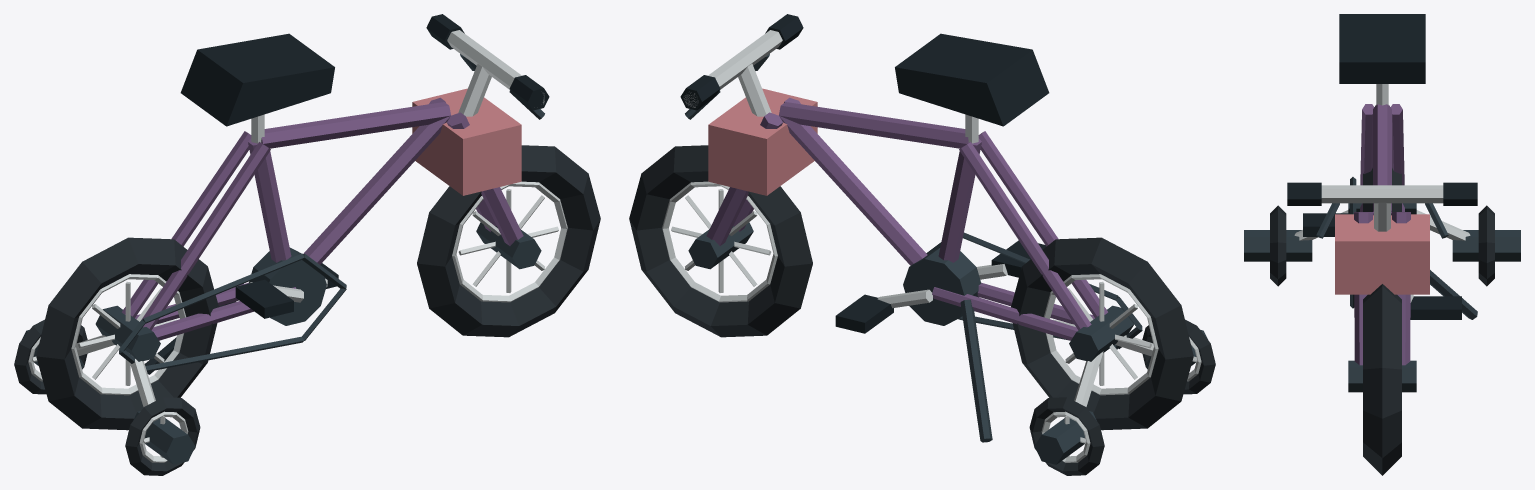
Rendered from b03_child_training_wheel_bicycle.glb.
3 renders of one model, left to right at view 1: azimuth 30°, elevation 25°; view 2: azimuth 150°, elevation 25°; view 3: azimuth 270°, elevation 25°, orthographic. The views are drawn at different scales.
Visible parts, largest first — view 1: b03_child_training_wheel_bicycle; view 2: b03_child_training_wheel_bicycle; view 3: b03_child_training_wheel_bicycle.
Part boxes in pixels (x1,y1,x2,y2): b03_child_training_wheel_bicycle: (14, 14, 600, 475); b03_child_training_wheel_bicycle: (629, 14, 1215, 475); b03_child_training_wheel_bicycle: (1244, 14, 1520, 475).
Bounding box in the file's own units: 1.35 × 0.78 × 0.61.
